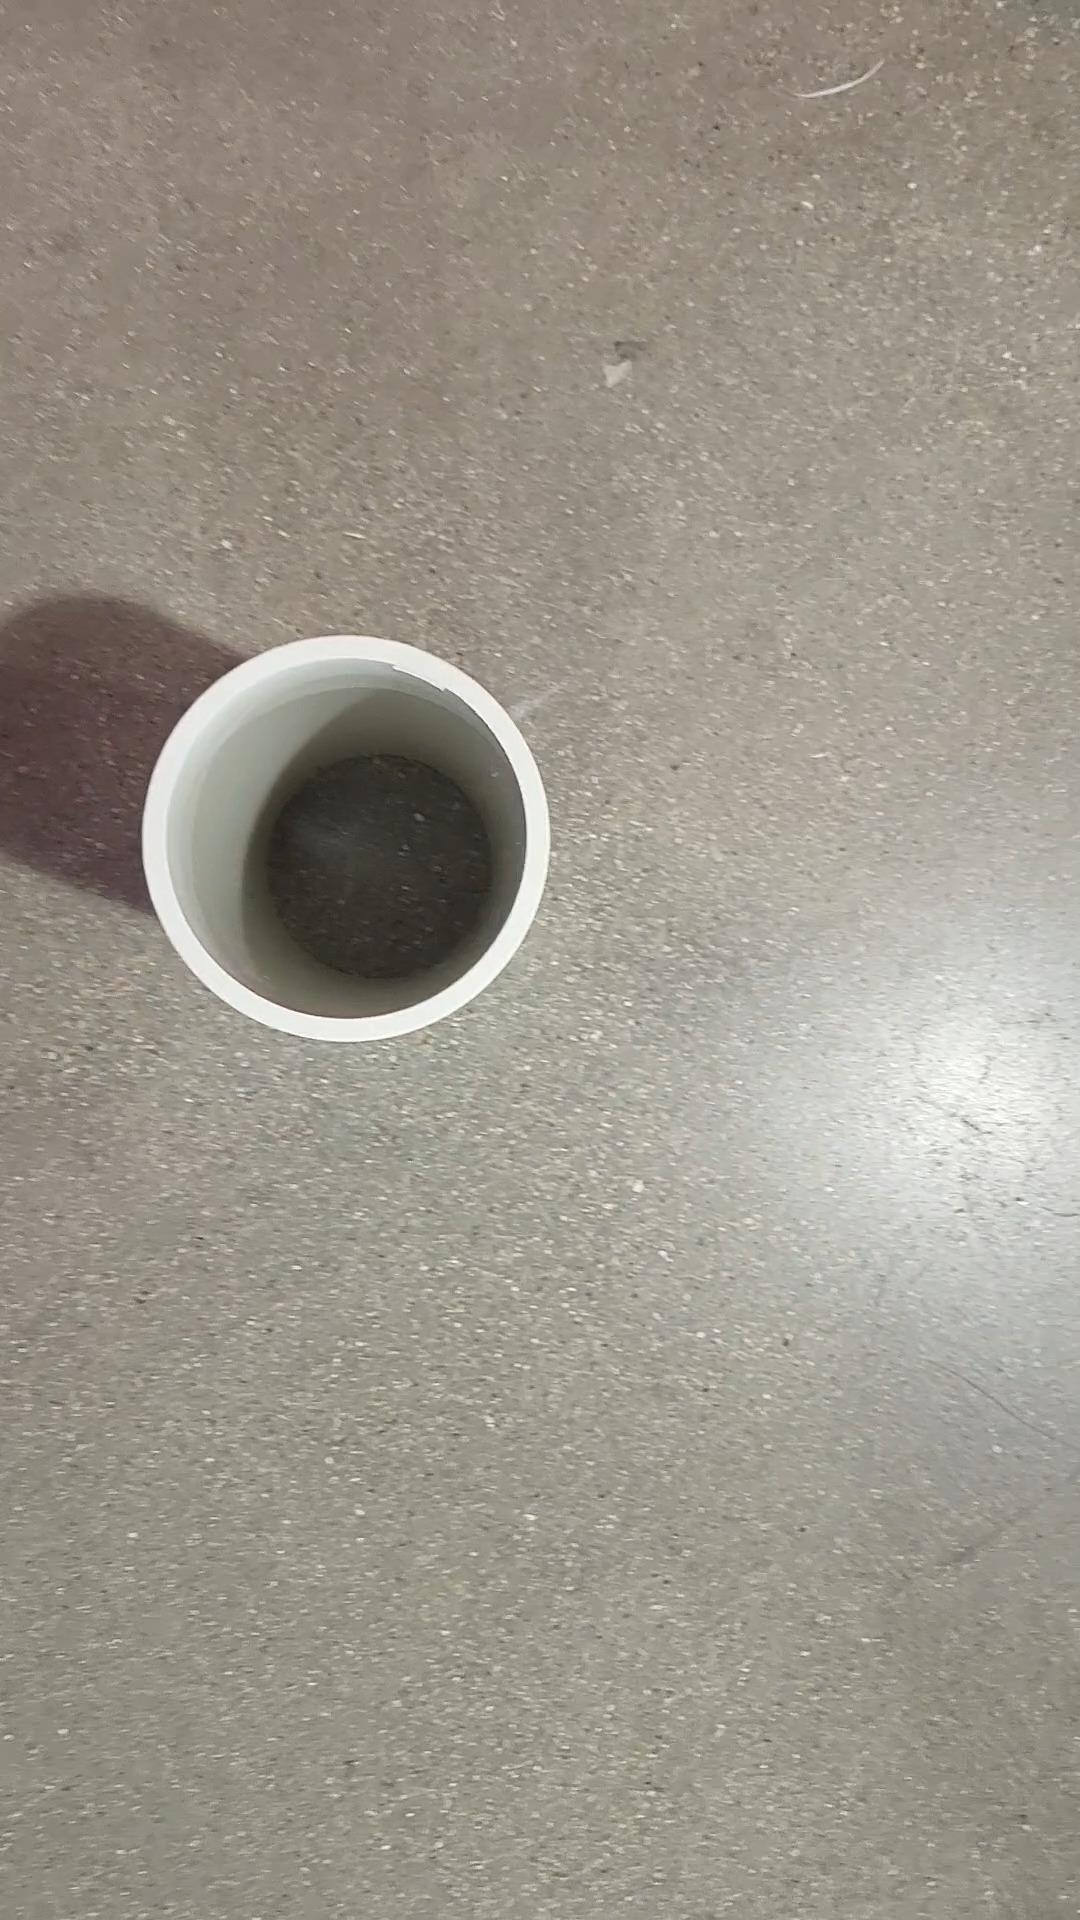coral: (146, 621, 554, 1054)
